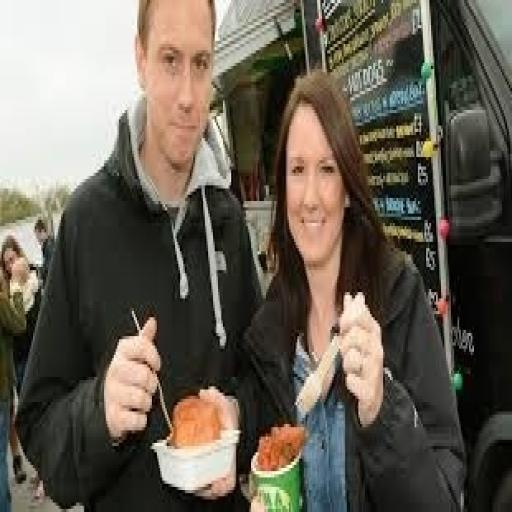eating: (14, 3, 468, 506)
